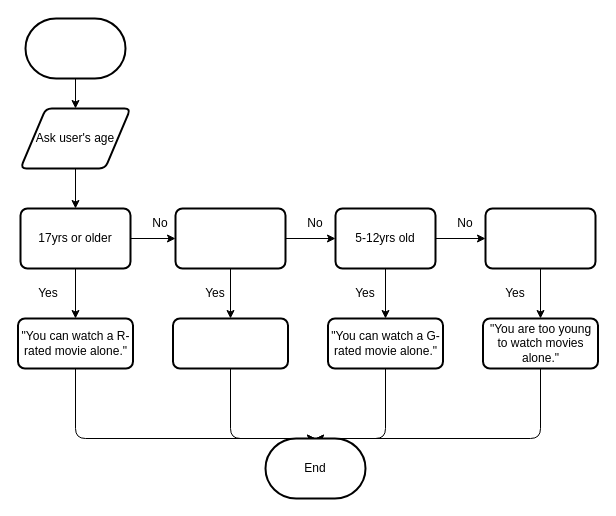
Some shapes in this 616 by 516 pixel diagram are drawn without their labels. Each missing label, with the centre of its shape:
"You can watch a pg-13 rated movie alone.": (230,343)
13-16yrs old: (230,238)
5yrs<: (540,238)
Start: (75,48)
